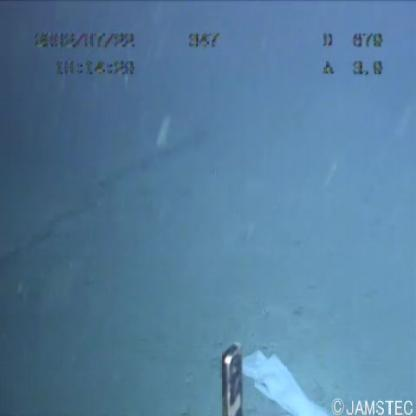Rov: (216, 335, 248, 416)
Rác: (243, 343, 337, 416)
